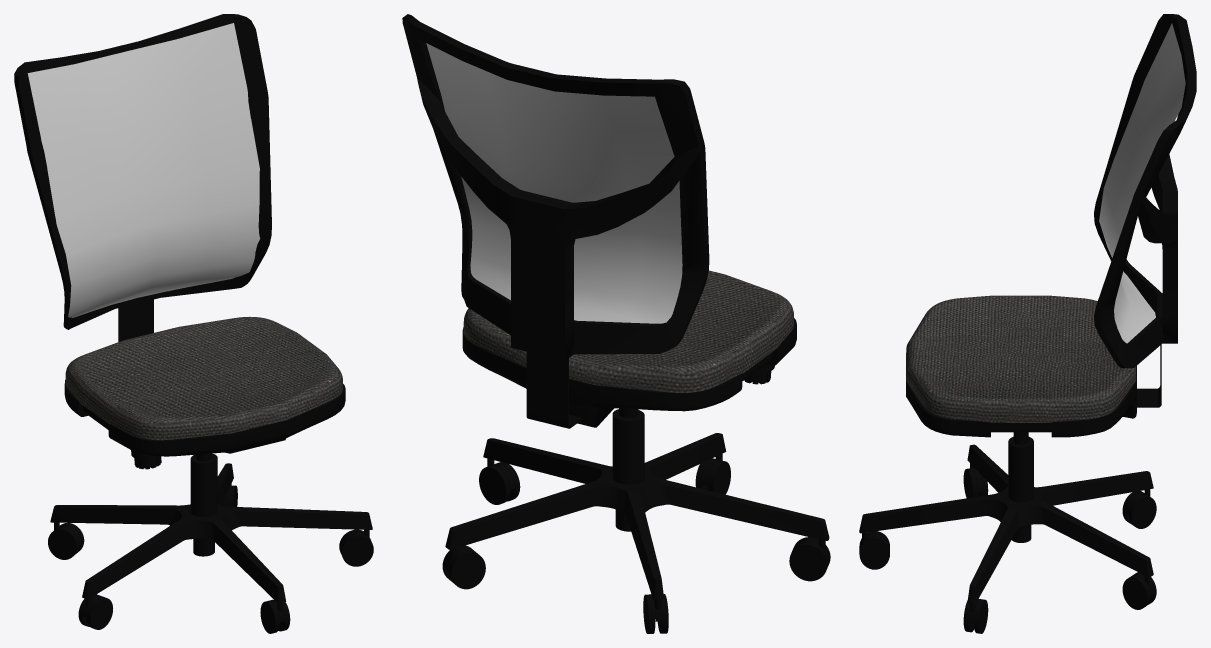
File: Office Chair Complete.fbx
3 views of the same model, side by side, from view 1: azimuth 30°, elevation 25°; view 2: azimuth 150°, elevation 25°; view 3: azimuth 270°, elevation 25° (orthographic). The views are drawn at different scales.
Parts seen in each view (by area): view 1: Plane002, Box005, Base, Box002, Cylinder009, Box006, Cylinder006, Cylinder004, Cylinder007, Cylinder003; view 2: Plane002, Base, Box005, Box002, Box006, Cylinder009, Cylinder007, Cylinder004, Cylinder005, Cylinder003, Cylinder006; view 3: Box005, Plane002, Base, Box002, Cylinder009, Cylinder006, Cylinder003, Cylinder005, Cylinder004, Cylinder007, Box006.
Part boxes in pixels (box(x1,y1,x2,y2)): Plane002: box(14, 14, 271, 329); Box005: box(65, 316, 342, 440); Base: box(50, 463, 372, 603); Box002: box(64, 380, 345, 456); Cylinder009: box(190, 453, 217, 556); Box006: box(118, 299, 153, 341); Cylinder006: box(48, 522, 84, 559); Cylinder004: box(339, 529, 373, 566); Cylinder007: box(78, 594, 112, 629); Cylinder003: box(260, 599, 290, 633); Plane002: box(402, 14, 709, 360); Base: box(445, 433, 829, 599); Box005: box(463, 270, 793, 392); Box002: box(462, 318, 796, 427); Box006: box(526, 351, 582, 428); Cylinder009: box(612, 409, 644, 531); Cylinder007: box(789, 537, 830, 581); Cylinder004: box(479, 458, 520, 504); Cylinder005: box(442, 545, 485, 589); Cylinder003: box(695, 453, 730, 494); Cylinder006: box(643, 594, 668, 633); Box005: box(906, 295, 1135, 422); Plane002: box(1094, 14, 1196, 368); Base: box(859, 444, 1153, 603); Box002: box(906, 353, 1136, 437); Cylinder009: box(1008, 436, 1033, 542); Cylinder006: box(1122, 489, 1156, 528); Cylinder003: box(859, 531, 889, 569); Cylinder005: box(1122, 572, 1156, 609); Cylinder004: box(963, 599, 988, 633); Cylinder007: box(963, 463, 988, 498); Box006: box(1137, 344, 1161, 407).
Bounding box in the file's own units: 26.38 × 41.53 × 25.59.
